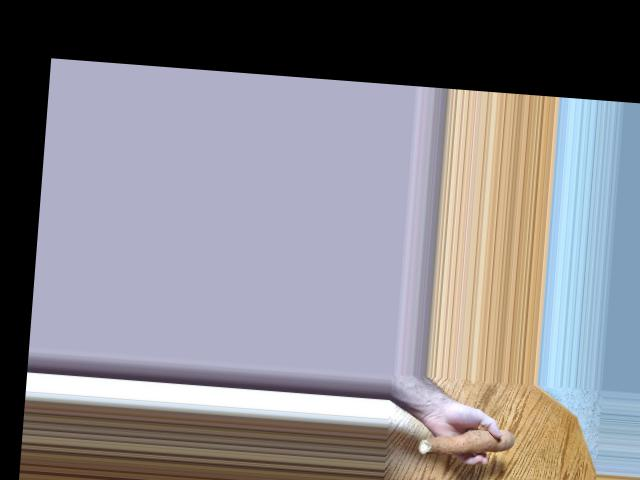sweet_potato: (420, 423, 513, 458)
